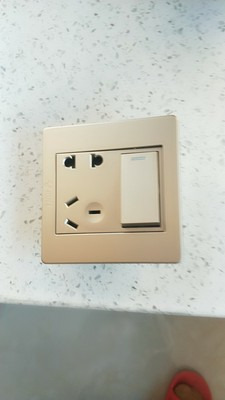switch: (117, 148, 169, 231)
